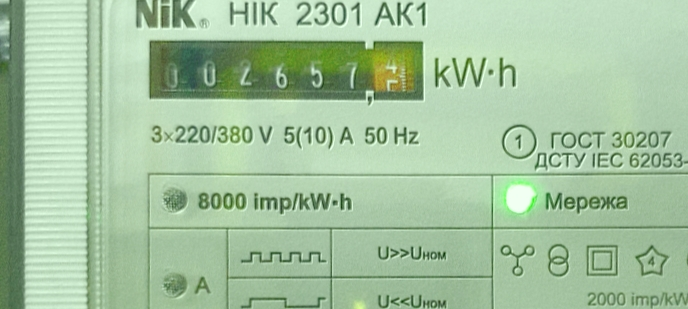0: (163, 61, 181, 90), (201, 58, 217, 89)
2: (237, 58, 254, 88)
4: (384, 49, 399, 75)
5: (309, 59, 325, 90), (385, 78, 400, 93)
6: (274, 60, 289, 90)
7: (345, 59, 360, 91)
screen: (139, 25, 436, 117)
